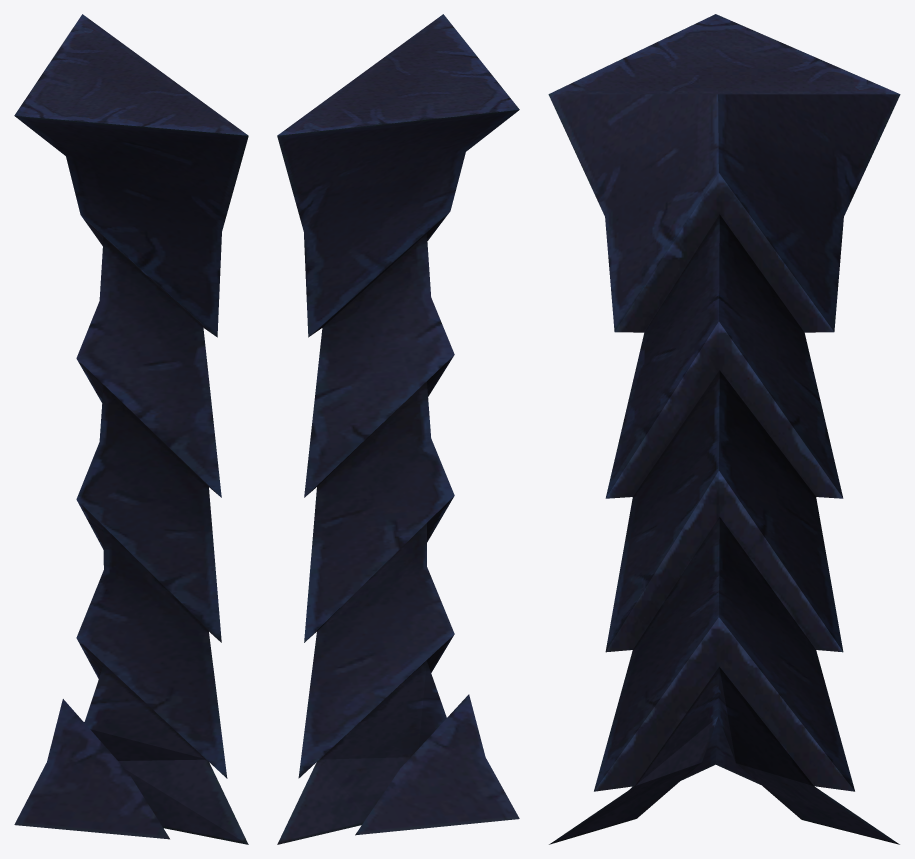
The model's file is palace_pillar_03.fbx.
3 renders of one model, left to right at view 1: azimuth 30°, elevation 25°; view 2: azimuth 150°, elevation 25°; view 3: azimuth 270°, elevation 25°, orthographic. The views are drawn at different scales.
Visible parts, largest first — view 1: palace_tileset/palace_pillar01_mat; view 2: palace_tileset/palace_pillar01_mat; view 3: palace_tileset/palace_pillar01_mat.
Boxes of the visible parts, <box> form: palace_tileset/palace_pillar01_mat: <box>14,14,248,844</box>; palace_tileset/palace_pillar01_mat: <box>277,14,519,844</box>; palace_tileset/palace_pillar01_mat: <box>548,14,900,844</box>.
Bounding box in the file's own units: 2.52 × 11 × 4.68.
